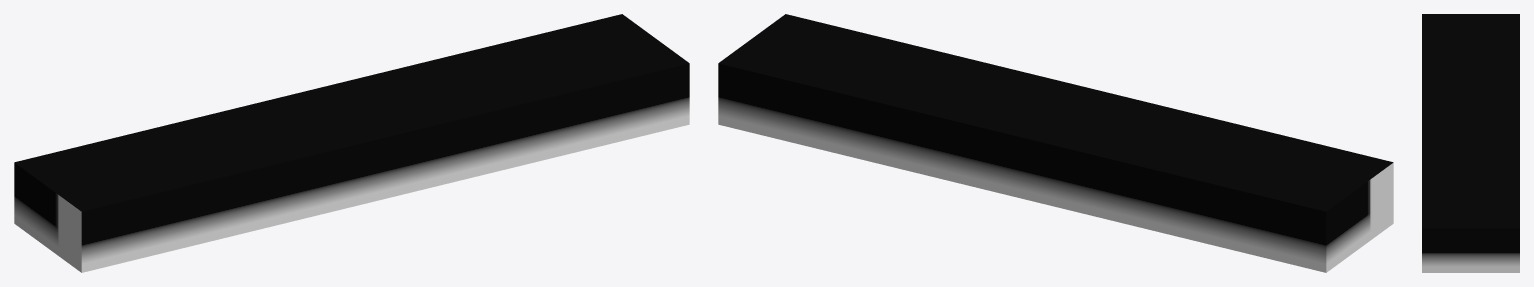
The model's file is Vereda2x10m.fbx.
3 views of the same model, side by side, from view 1: azimuth 30°, elevation 25°; view 2: azimuth 150°, elevation 25°; view 3: azimuth 270°, elevation 25° (orthographic). The views are drawn at different scales.
Parts seen in each view (by area): view 1: Vereda, NeonVereda; view 2: Vereda, NeonVereda; view 3: Vereda, NeonVereda.
Part boxes in pixels (x1,y1,x2,y2): Vereda: (14, 19, 666, 272); NeonVereda: (599, 14, 689, 130); Vereda: (741, 19, 1393, 272); NeonVereda: (718, 14, 808, 130); Vereda: (1422, 14, 1519, 220); NeonVereda: (1422, 220, 1519, 272).
Size of the model in its own units: 1040 by 100 by 200.
